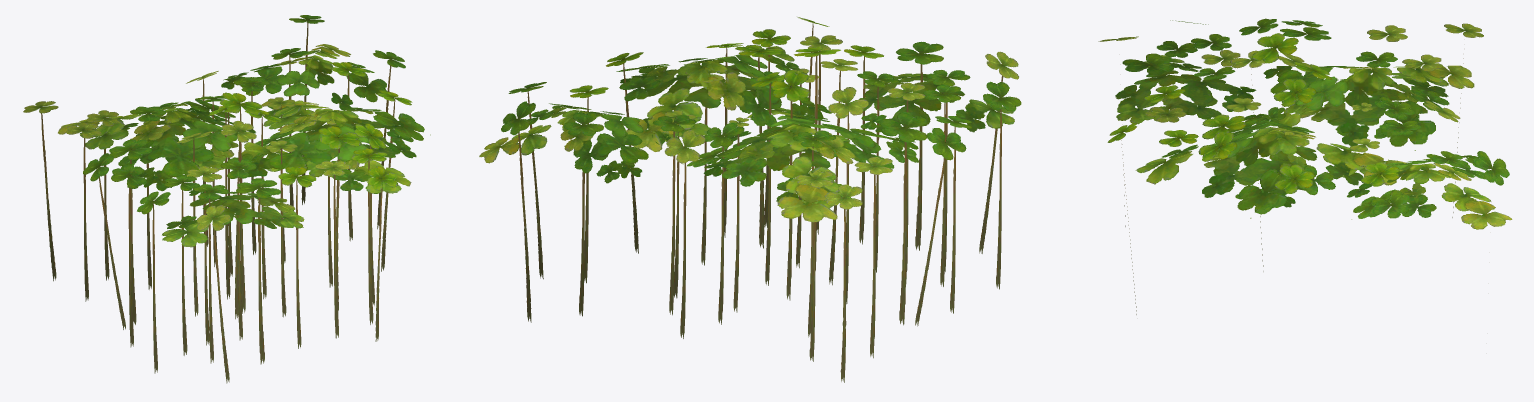
Rendered from guan_mu_001.FBX.
3 renders of one model, left to right at view 1: azimuth 30°, elevation 25°; view 2: azimuth 150°, elevation 25°; view 3: azimuth 270°, elevation 25°, orthographic. The views are drawn at different scales.
Parts seen in each view (by area): view 1: guan_mu_001; view 2: guan_mu_001; view 3: guan_mu_001.
Part boxes in pixels (box(x1,y1,x2,y2)): guan_mu_001: box(23, 15, 430, 383); guan_mu_001: box(479, 17, 1021, 382); guan_mu_001: box(1098, 18, 1512, 314).
Size of the model in its own units: 135 by 76.37 by 131.
